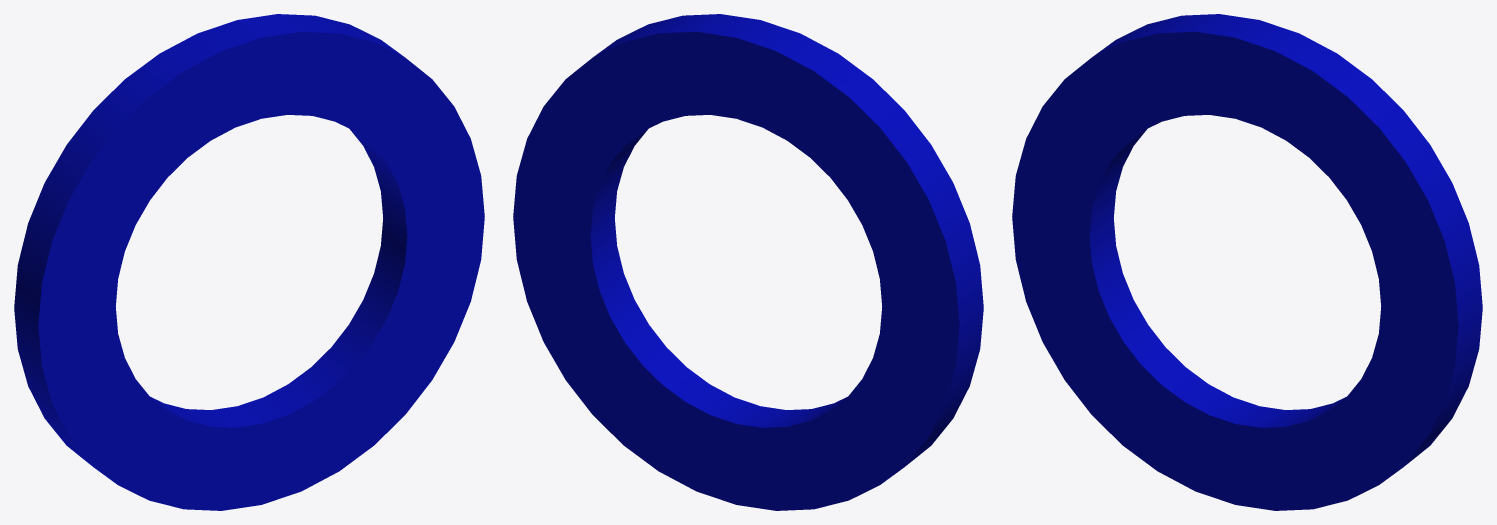
The model's file is Joystick_element_12.FBX.
The picture shows the model from 3 angles, left to right: view 1: azimuth 30°, elevation 25°; view 2: azimuth 150°, elevation 25°; view 3: azimuth 330°, elevation 25°; orthographic projection.
Visible parts, largest first — view 1: Joystick_element_12; view 2: Joystick_element_12; view 3: Joystick_element_12.
Part boxes in pixels (x1,y1,x2,y2): Joystick_element_12: [14, 14, 484, 510]; Joystick_element_12: [513, 14, 983, 510]; Joystick_element_12: [1012, 14, 1482, 510].
Bounding box in the file's own units: 31.95 × 31.95 × 3.
